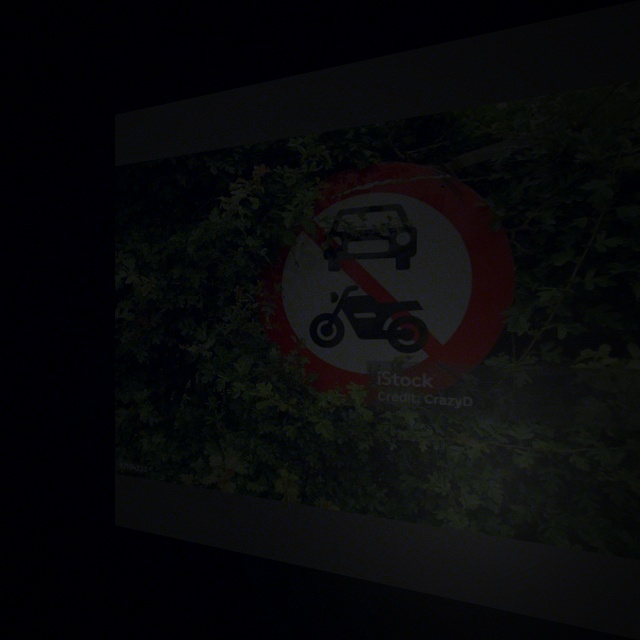All_Motor_Vehicles_Prohibited: (258, 146, 514, 418)
